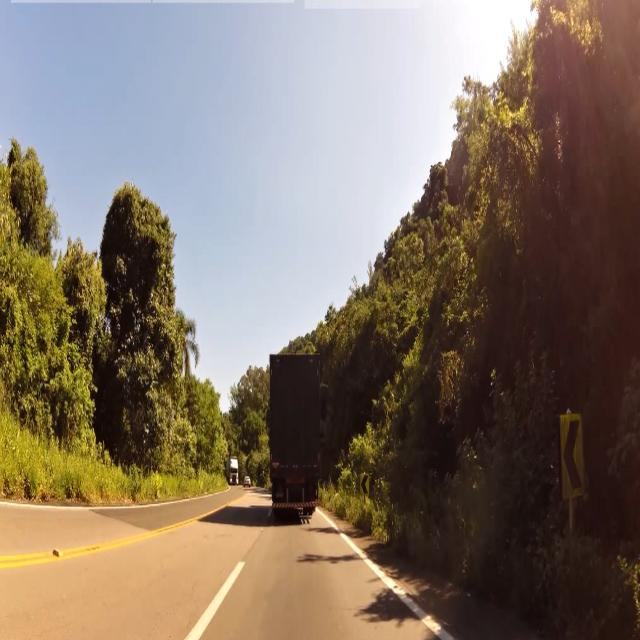Del: (558, 416, 584, 502)
